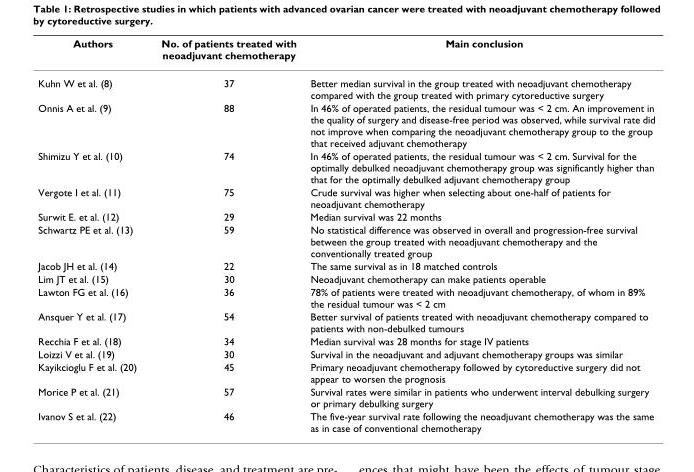table: (37, 36, 654, 433)
table column: (302, 36, 654, 433), (148, 36, 302, 433), (37, 36, 148, 433)
table column header: (37, 36, 654, 68)
table row: (37, 100, 654, 148), (37, 148, 654, 185), (37, 222, 654, 259), (37, 36, 654, 68), (37, 68, 654, 100), (37, 284, 654, 309), (37, 309, 654, 334), (37, 384, 654, 409), (37, 185, 654, 209), (37, 360, 654, 384), (37, 409, 654, 433), (37, 209, 654, 222), (37, 259, 654, 272), (37, 334, 654, 347), (37, 347, 654, 360), (37, 272, 654, 284)
